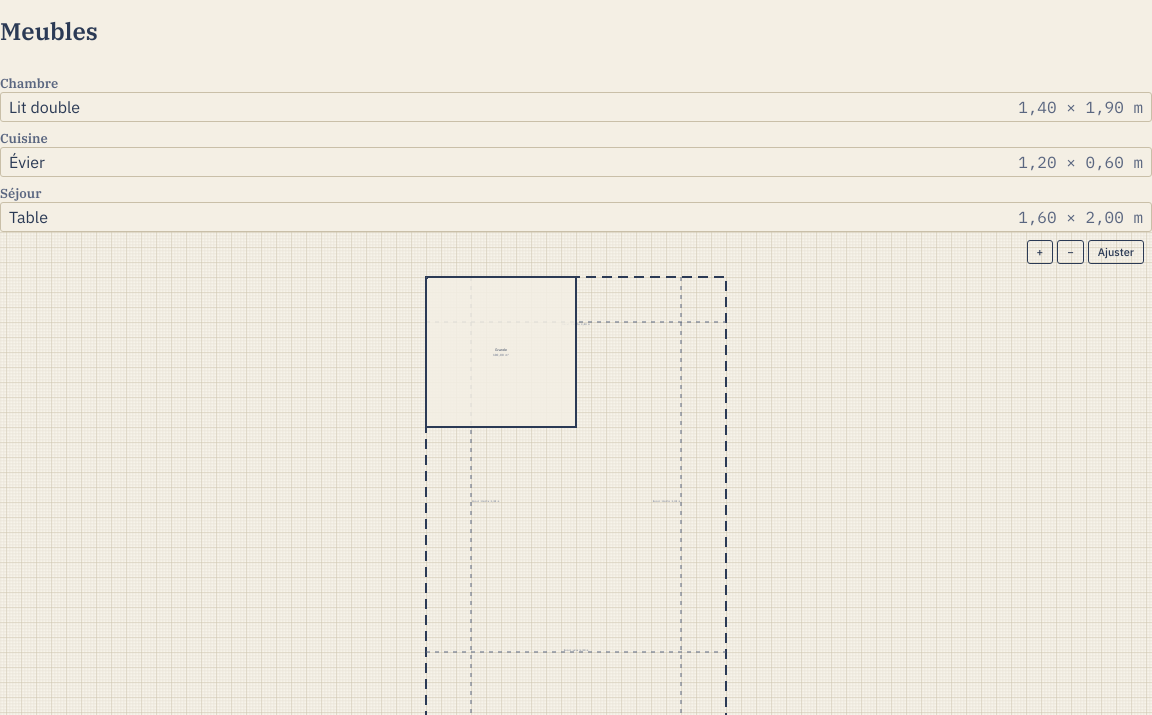
Test case: pose sur le plan › 501e meuble refusé avec message
Click the button "Lit double 1,40 × 1,90 m".
click(45, 107)  # box top-left (0, 92), bottom-right (1151, 122)
(page scrolled)
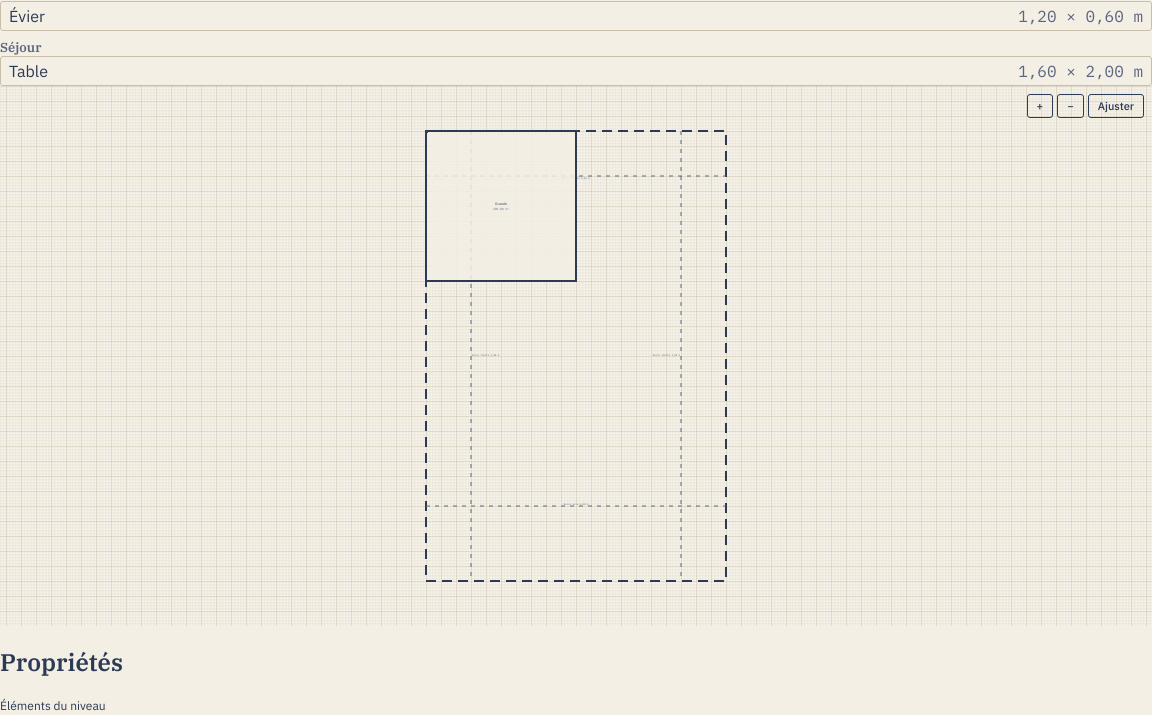
Press the mouse on the picture named "Plan du projet" at (576,356), box top-left (0, 86), bottom-right (1151, 626)
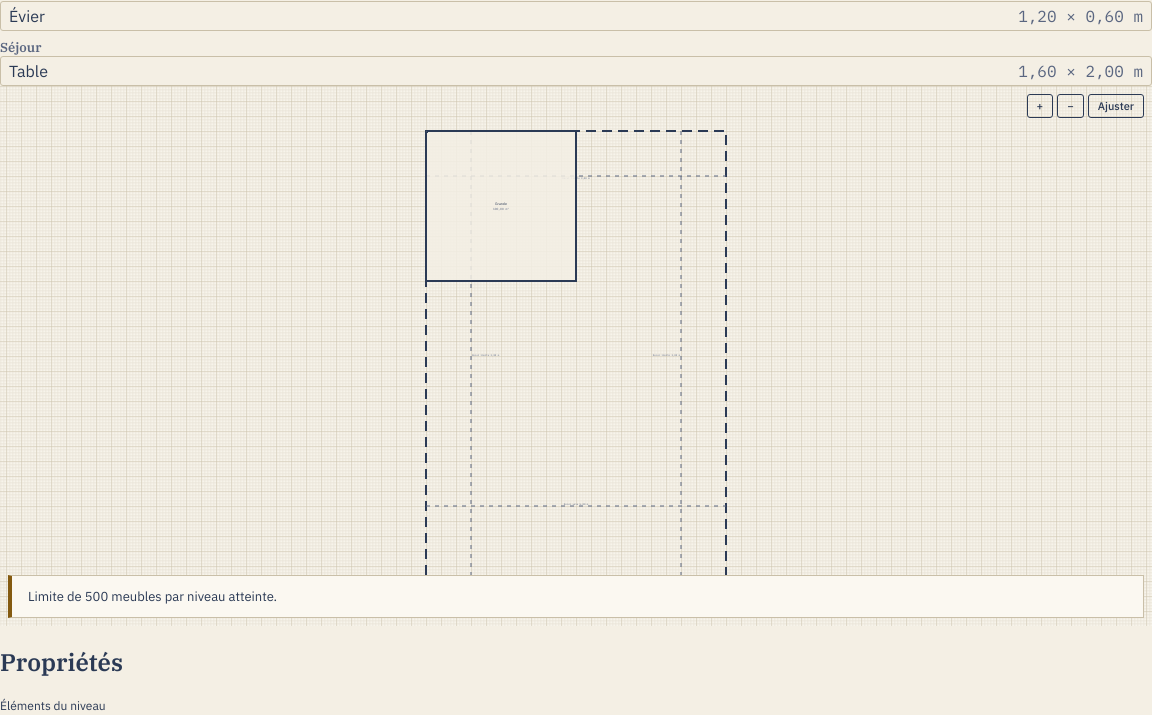
Check: the text "Limite de 500 meubles par niveau atteinte." is shown, box top-left (28, 588), bottom-right (277, 605)
